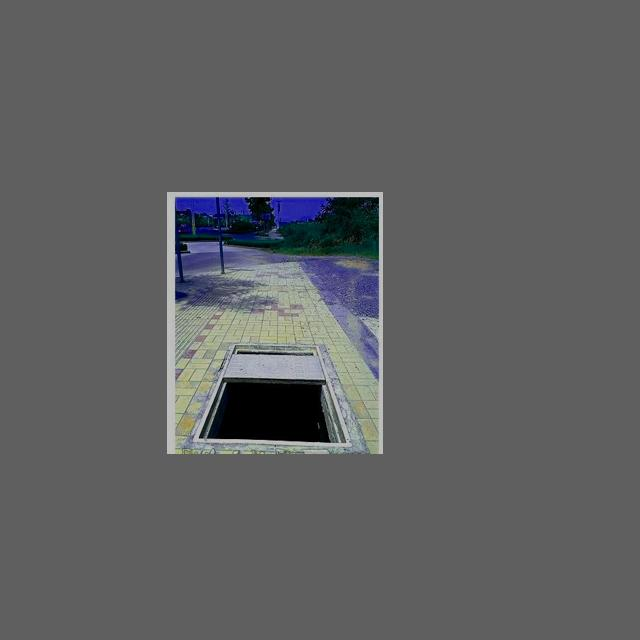lose: (182, 339, 357, 453)
